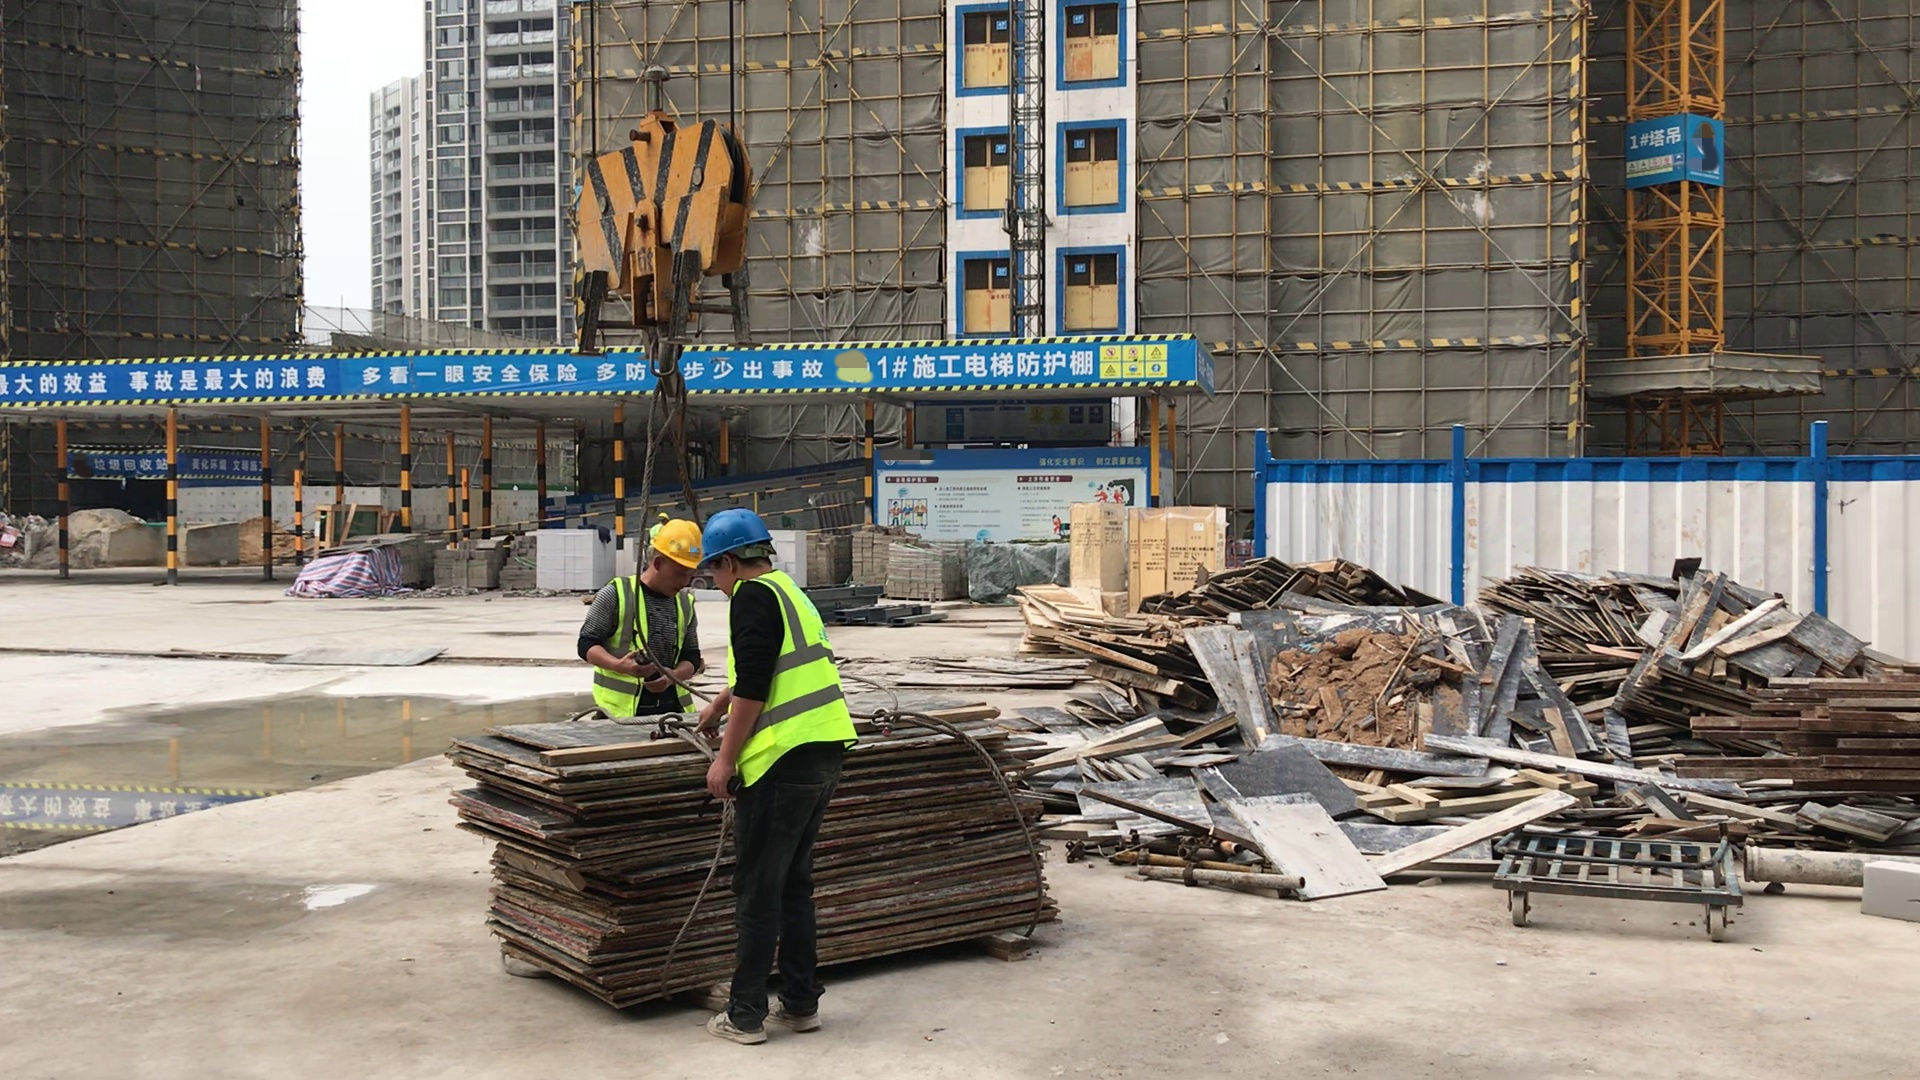board: (447, 694, 1062, 1013)
brick: (534, 526, 635, 595), (771, 529, 808, 586)
hook: (559, 113, 757, 394)
person: (699, 506, 847, 1045), (575, 519, 699, 716), (651, 511, 667, 542)
slogan: (356, 357, 817, 391), (5, 365, 335, 395), (1098, 346, 1171, 373), (1628, 154, 1688, 179)
vest: (726, 572, 850, 784), (595, 575, 695, 716), (704, 510, 766, 565)
